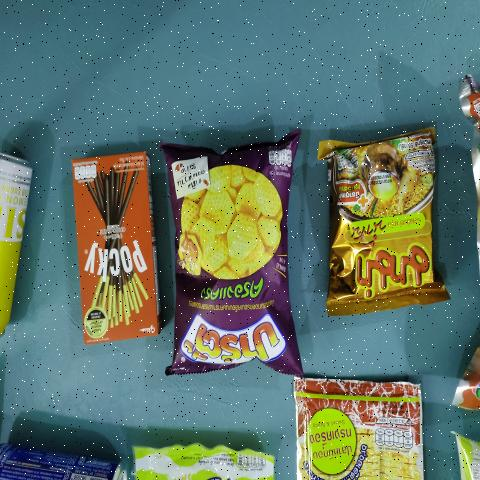mama: (335, 137, 429, 300)
party_purple: (178, 152, 286, 365)
pokki: (84, 152, 144, 334)
